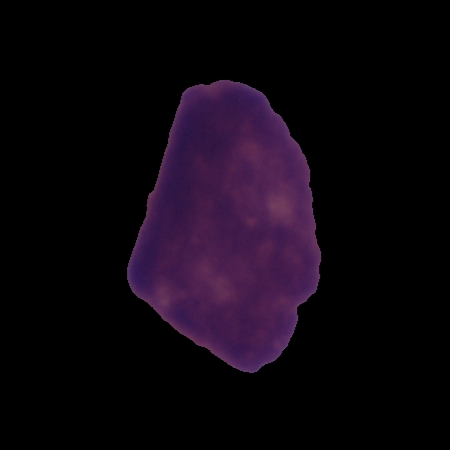ALL: (123, 77, 326, 375)
